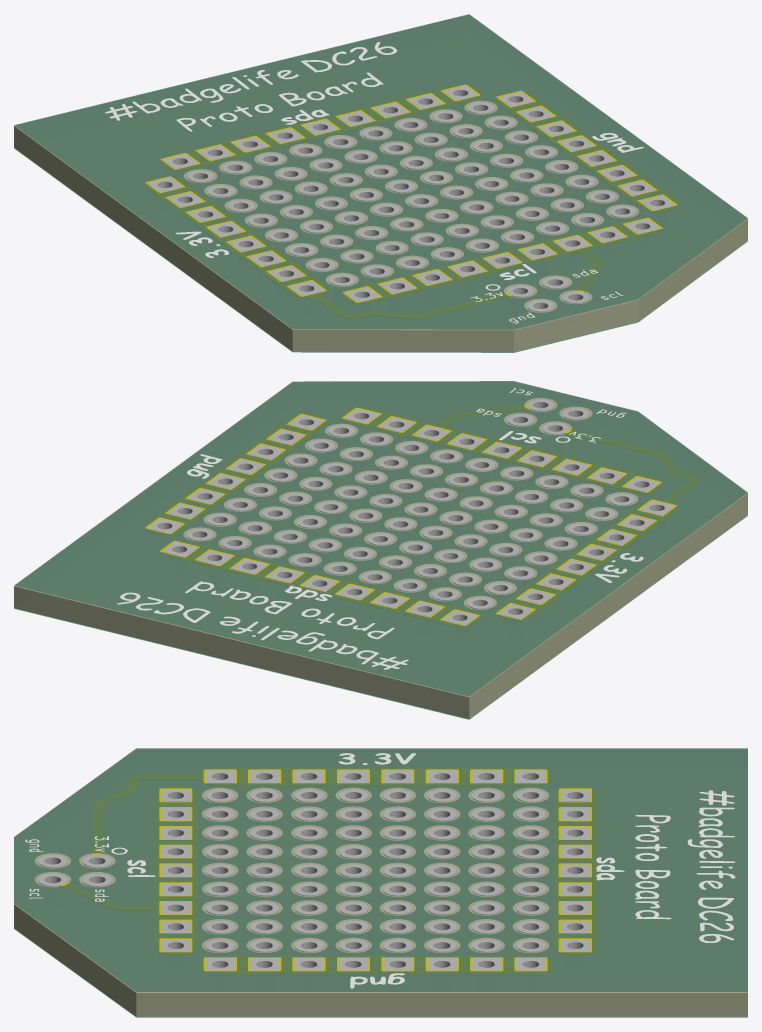
Rendered from badgelife-dev-board.glb.
The picture shows the model from 3 angles, top to bottom: view 1: azimuth 30°, elevation 25°; view 2: azimuth 150°, elevation 25°; view 3: azimuth 270°, elevation 25°; orthographic projection. The views are drawn at different scales.
Parts seen in each view (by area): view 1: =>[0:1:1:7], =>[0:1:1:5], =>[0:1:1:2], =>[0:1:1:4]; view 2: =>[0:1:1:7], =>[0:1:1:5], =>[0:1:1:2], =>[0:1:1:4]; view 3: =>[0:1:1:7], =>[0:1:1:5], =>[0:1:1:2], =>[0:1:1:4].
Part boxes in pixels (bbox=[...]): =>[0:1:1:7]: bbox=[14, 15, 747, 352]; =>[0:1:1:5]: bbox=[14, 14, 747, 352]; =>[0:1:1:2]: bbox=[145, 84, 677, 318]; =>[0:1:1:4]: bbox=[105, 42, 643, 323]; =>[0:1:1:7]: bbox=[14, 382, 747, 718]; =>[0:1:1:5]: bbox=[14, 381, 747, 719]; =>[0:1:1:2]: bbox=[145, 399, 697, 626]; =>[0:1:1:4]: bbox=[117, 387, 643, 669]; =>[0:1:1:7]: bbox=[14, 750, 747, 1016]; =>[0:1:1:5]: bbox=[14, 748, 747, 1017]; =>[0:1:1:2]: bbox=[38, 768, 596, 973]; =>[0:1:1:4]: bbox=[25, 753, 735, 988].
Size of the model in its own units: 0.033 by 0.00163 by 0.042.
4 materials, 4 textured.
